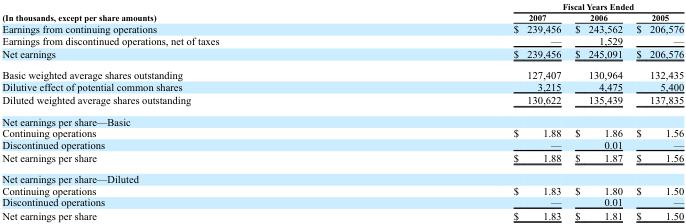table: (1, 1, 683, 220)
table column: (1, 1, 365, 220), (365, 1, 567, 220), (567, 1, 628, 220), (628, 1, 683, 220)
table column header: (1, 1, 683, 22)
table projected row header: (1, 110, 683, 126), (1, 168, 683, 184)
table row: (1, 46, 683, 64), (1, 92, 683, 110), (1, 150, 683, 168), (1, 64, 683, 80), (1, 110, 683, 126), (1, 168, 683, 184), (1, 22, 683, 34), (1, 34, 683, 46), (1, 80, 683, 92), (1, 126, 683, 138), (1, 138, 683, 150), (1, 184, 683, 196), (1, 196, 683, 208), (1, 208, 683, 220), (1, 11, 683, 22), (1, 1, 683, 11)
table spanning cell: (1, 1, 365, 22), (365, 1, 683, 11)
